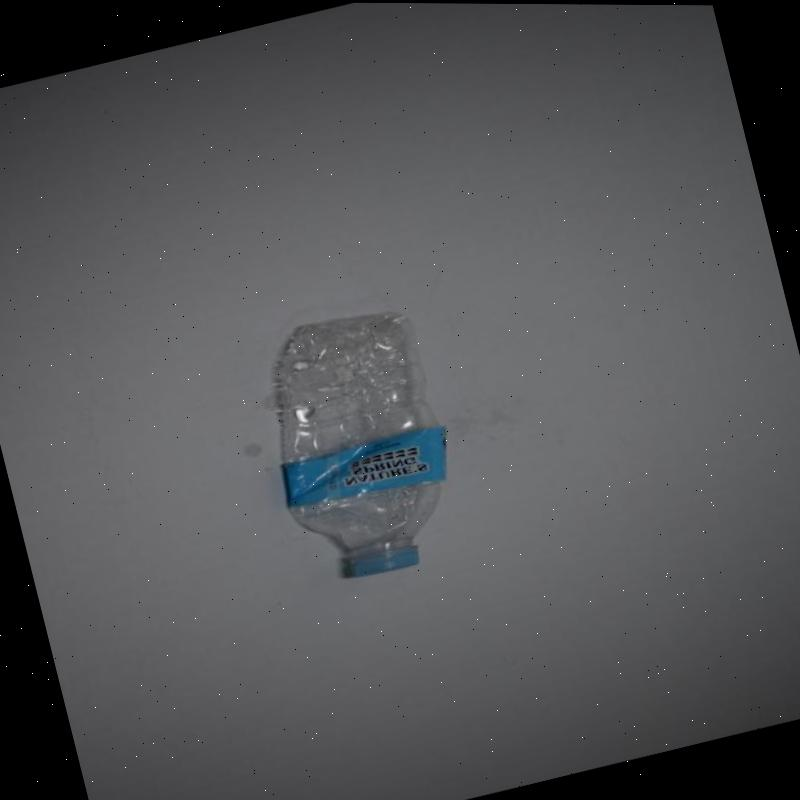botella: (240, 294, 477, 592)
